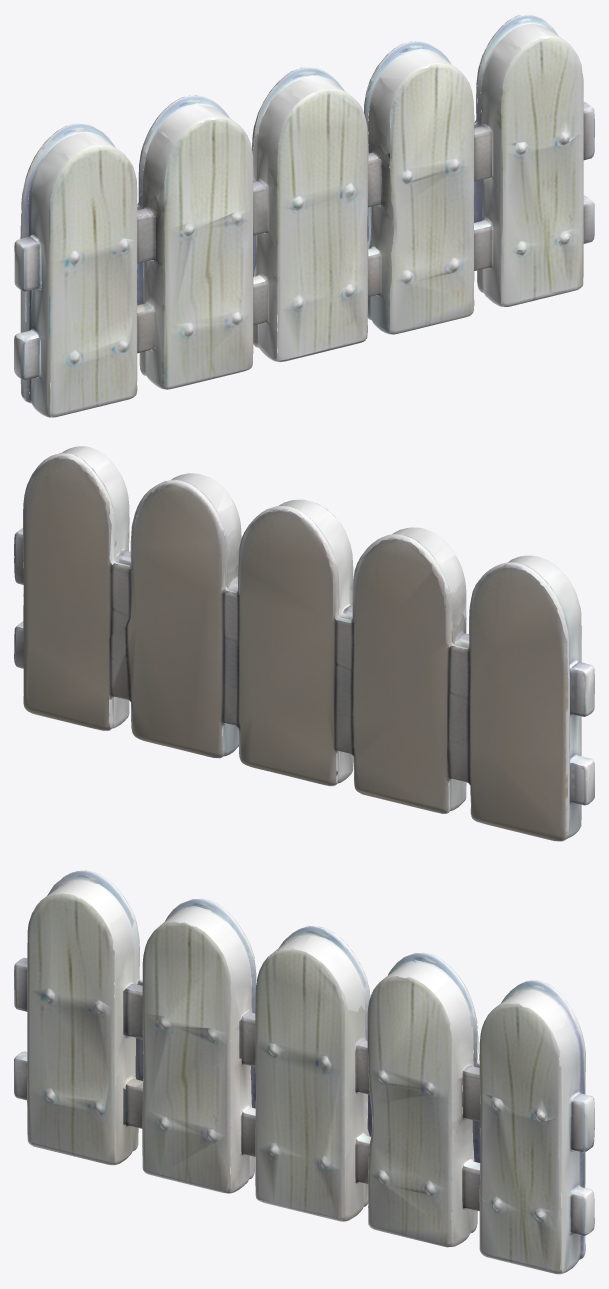
File: fence.glb
3 renders of one model, top to bottom at view 1: azimuth 30°, elevation 25°; view 2: azimuth 150°, elevation 25°; view 3: azimuth 330°, elevation 25°, orthographic.
Visible parts, largest first — view 1: tmphcmzc19p.ply; view 2: tmphcmzc19p.ply; view 3: tmphcmzc19p.ply.
Part boxes in pixels (left/top/right/bottom): tmphcmzc19p.ply: left=14, top=14, right=594, bottom=417; tmphcmzc19p.ply: left=14, top=446, right=594, bottom=841; tmphcmzc19p.ply: left=14, top=870, right=594, bottom=1274.
Size of the model in its own units: 1.99 by 0.9056 by 0.1569.
Materials: 1 (1 with a texture image).
